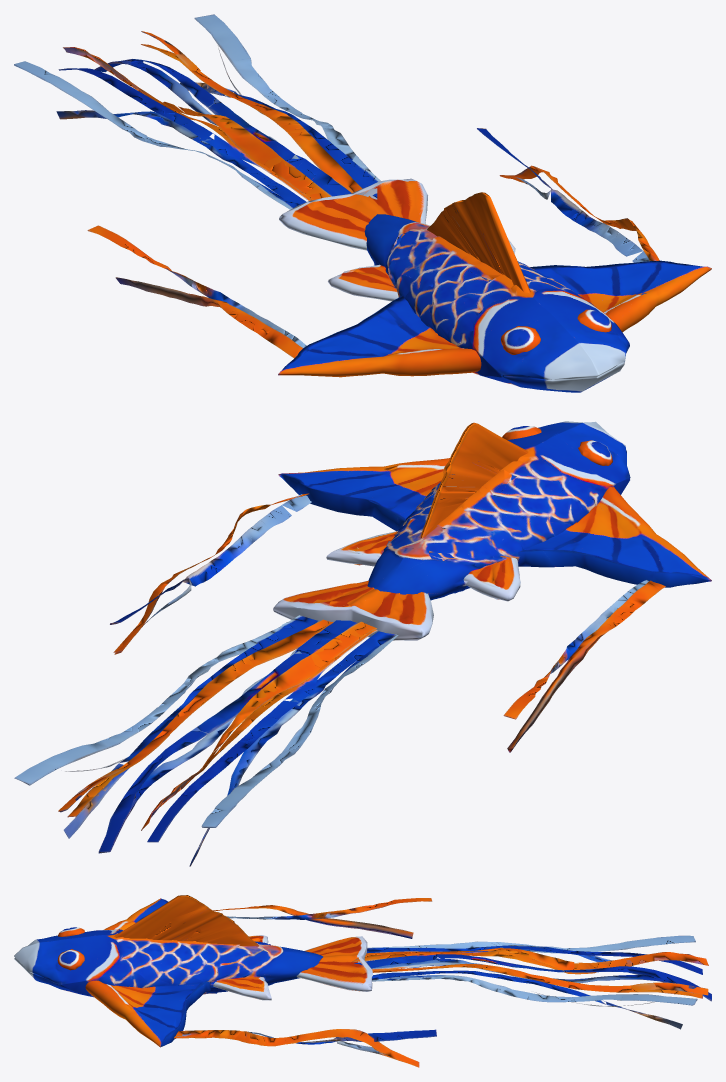
The model's file is fish_flyer.glb.
3 renders of one model, top to bottom at view 1: azimuth 30°, elevation 25°; view 2: azimuth 150°, elevation 25°; view 3: azimuth 270°, elevation 25°, orthographic. The views are drawn at different scales.
Parts seen in each view (by area): view 1: geometry_0; view 2: geometry_0; view 3: geometry_0.
Boxes of the visible parts, bbox=[...] form: geometry_0: bbox=[14, 14, 711, 392]; geometry_0: bbox=[14, 421, 711, 866]; geometry_0: bbox=[14, 895, 711, 1067].
Bounding box in the file's own units: 0.479 × 0.1763 × 0.9517.
1 material, 1 textured.
